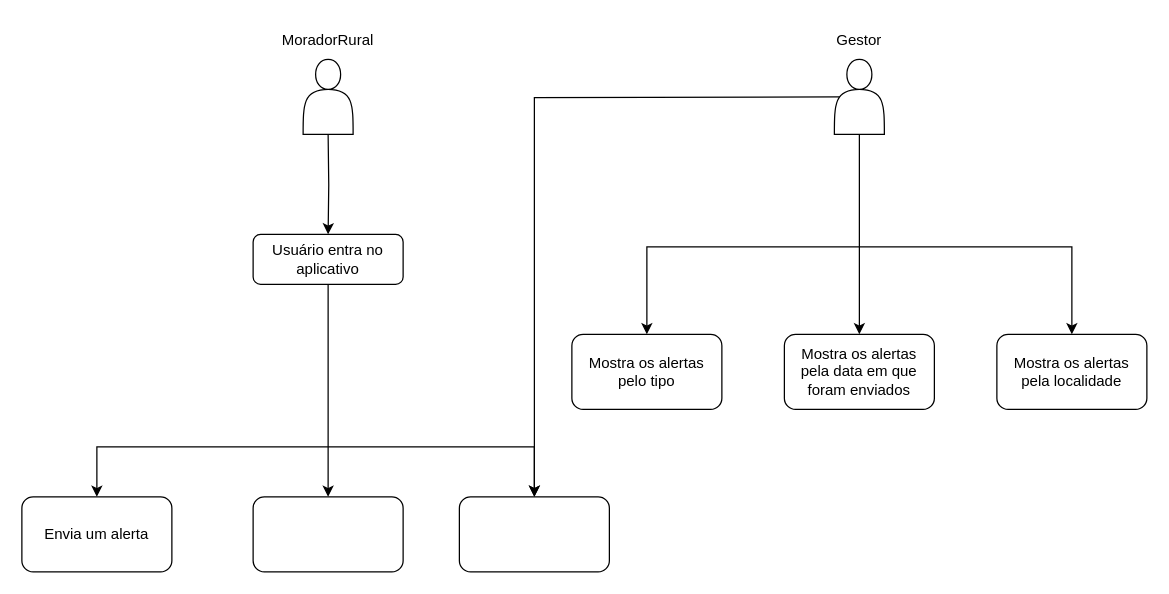
The diagram is 1169 pixels wide and 594 high, and some of its shapes have lost their labels. Here are the shapes that lost their labels. From the top down, the box of each, then its label:
(252, 496, 403, 572): Mostra dados básicos do usuário
(458, 496, 609, 572): Mostra alertas enviados pelo usuário
